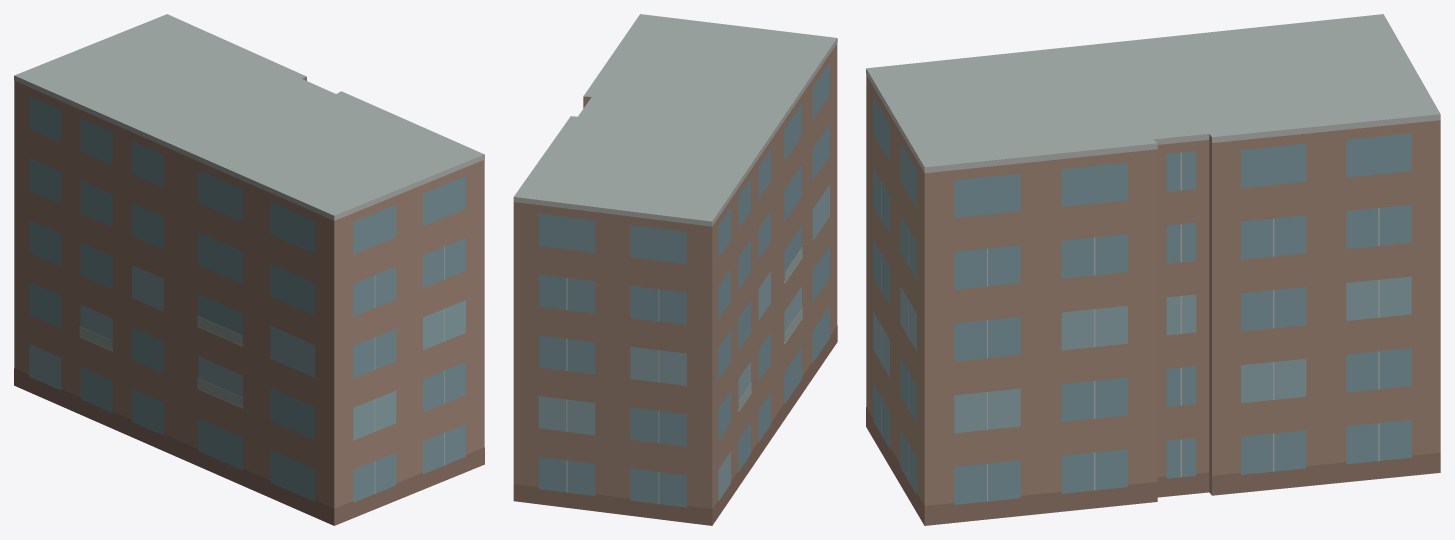
The model's file is survey-upis-33001931.glb.
3 views of the same model, side by side, from view 1: azimuth 30°, elevation 25°; view 2: azimuth 150°, elevation 25°; view 3: azimuth 270°, elevation 25° (orthographic). The views are drawn at different scales.
Visible parts, largest first — view 1: survey-upis-33001931.tmp; view 2: survey-upis-33001931.tmp; view 3: survey-upis-33001931.tmp.
Boxes of the visible parts, <box> form: survey-upis-33001931.tmp: <box>14,14,484,525</box>; survey-upis-33001931.tmp: <box>513,14,837,525</box>; survey-upis-33001931.tmp: <box>866,14,1440,525</box>.
Size of the model in its own units: 13.63 by 14.84 by 21.57.
